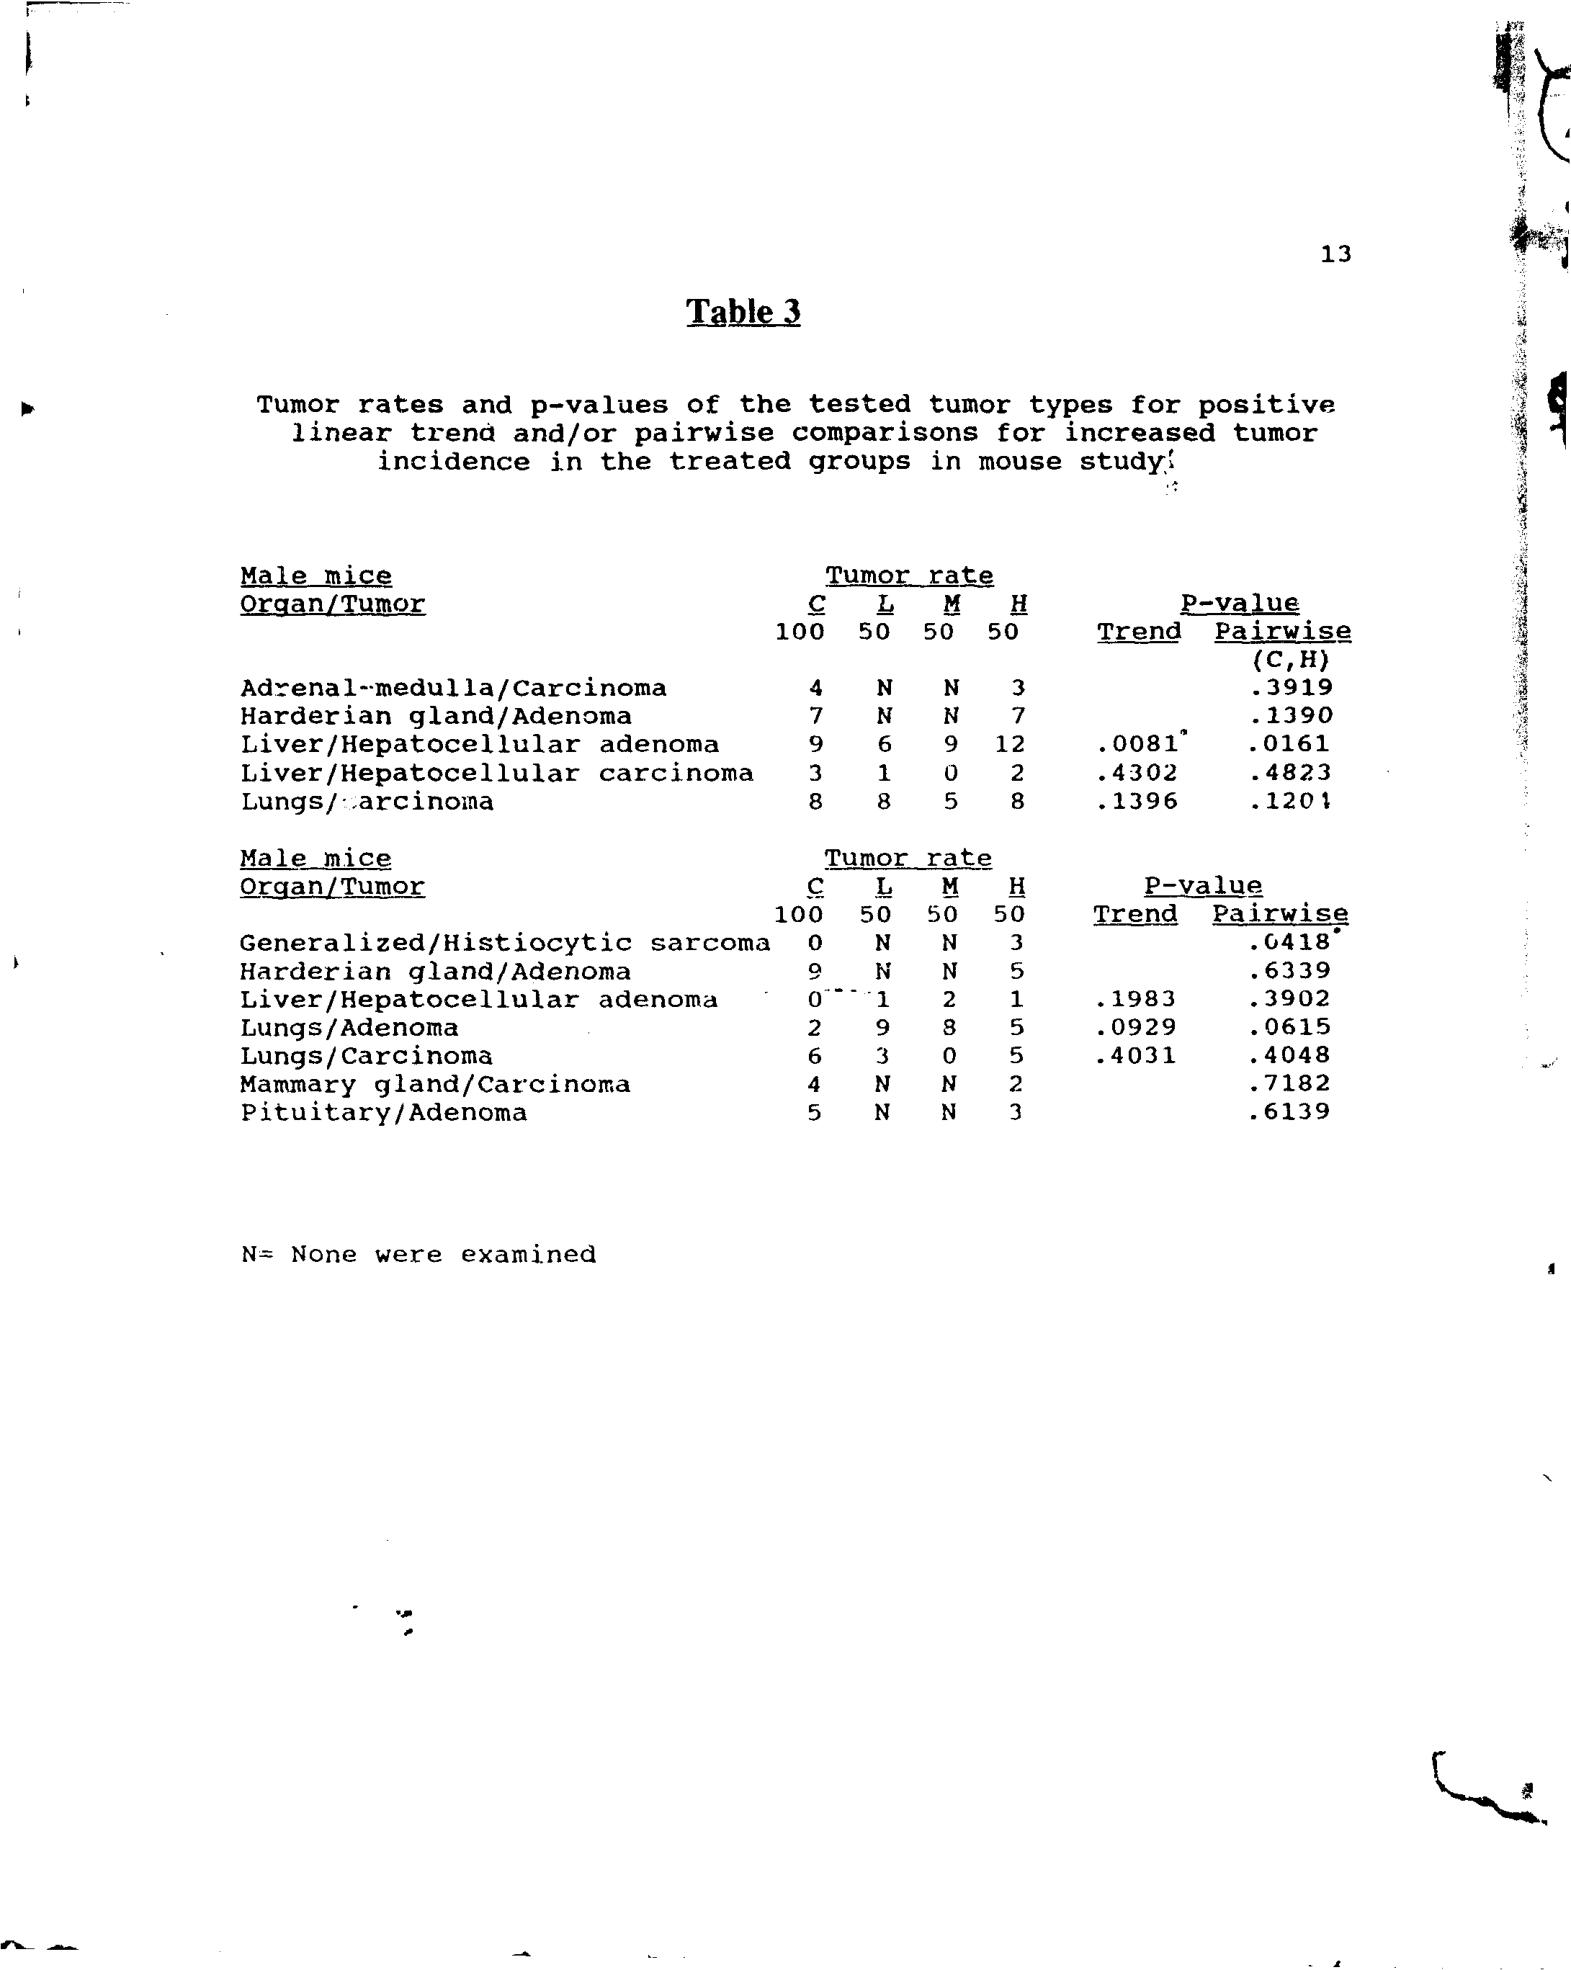nolines: (236, 559, 1358, 1128)
